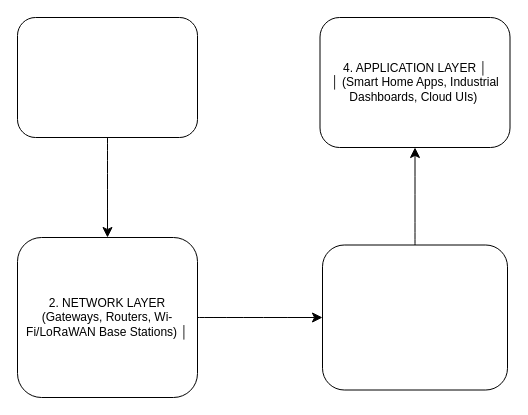
The diagram is 528 pixels wide and 415 high, and some of its shapes have lost their labels. Each missing label, with the box of its shape:
1. PERCEPTION LAYER Sensors, Actuators, Microcontrollers, RFID Tags): (16, 16, 198, 138)
3. PROCESSING LAYER │ │ (Cloud Servers, Databases, Edge Analytics Engine): (322, 244, 508, 390)
